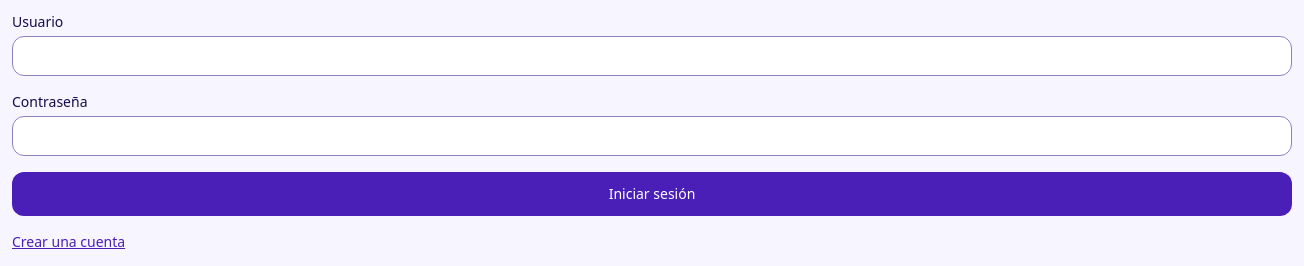
Test case: LoginForm › disables the submit button and shows the pending label while the action runs
Type "ada_lovelace" into the field labelled "Usuario" at (652,56), box [12,36,1292,76]
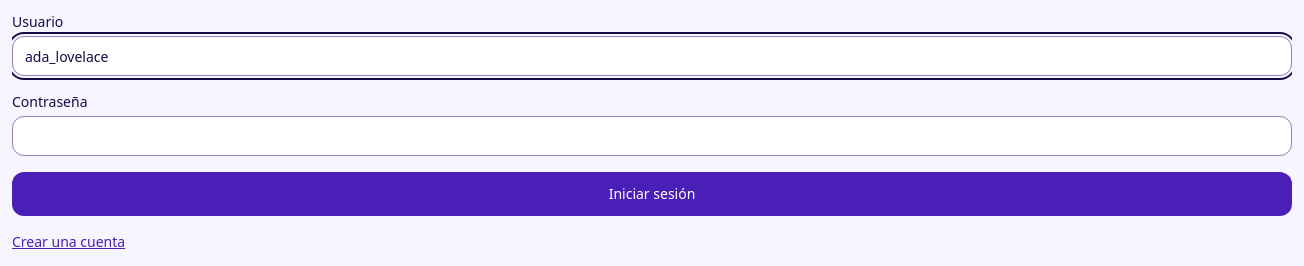
Type "supersecret1" into the password field labelled "Contraseña" at (652,136), box [12,116,1292,156]
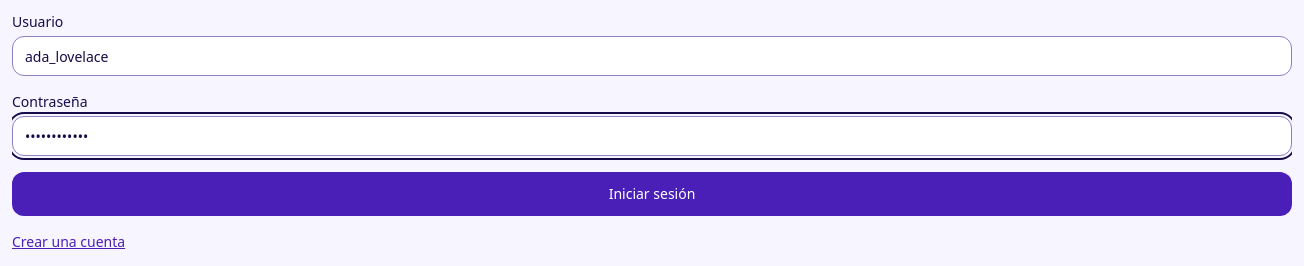
Click the button "Iniciar sesión" at (652,194), box [12,172,1292,216]
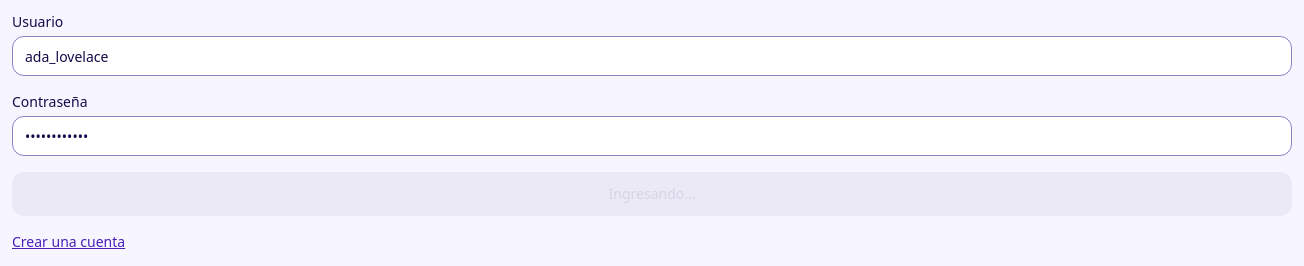
Now the button "Ingresando…" is disabled, box [12,172,1292,216]
